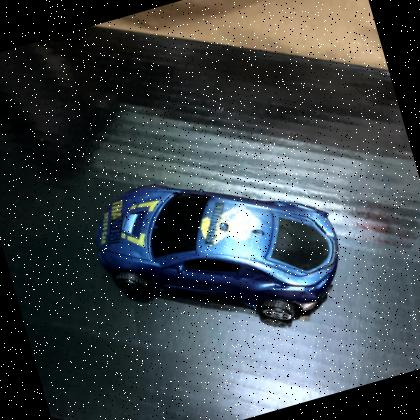Car: (95, 184, 340, 323)
